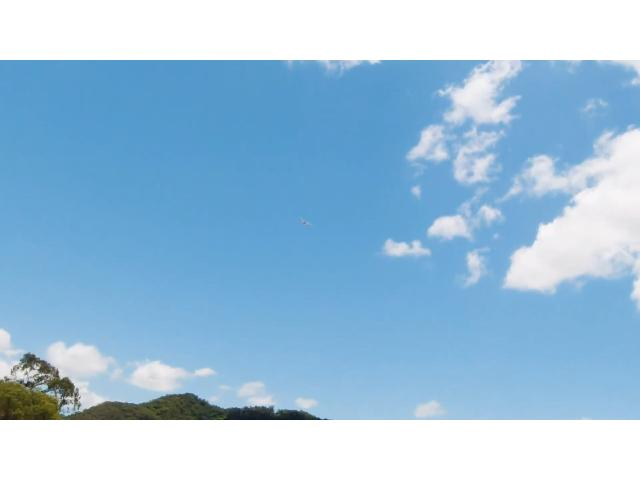Anti-Drone: (282, 207, 332, 239)
